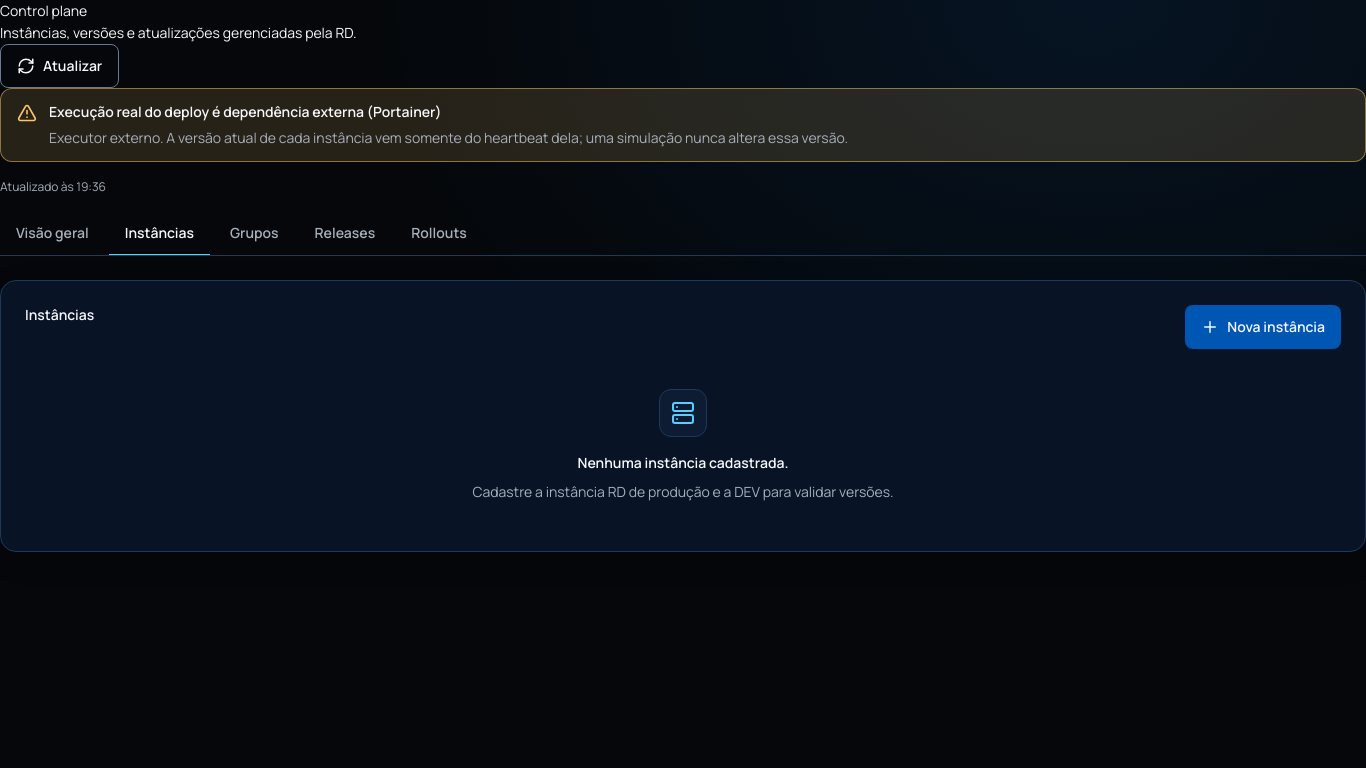
Test: Control plane — gestão (Admin Master) × somente leitura › com control_plane.manage: cadastra instância (POST /control-plane/instances) e mostra o token uma única vez
Step 1. Click the button "Nova instância" → (1263, 327), box [1185,305,1341,349]
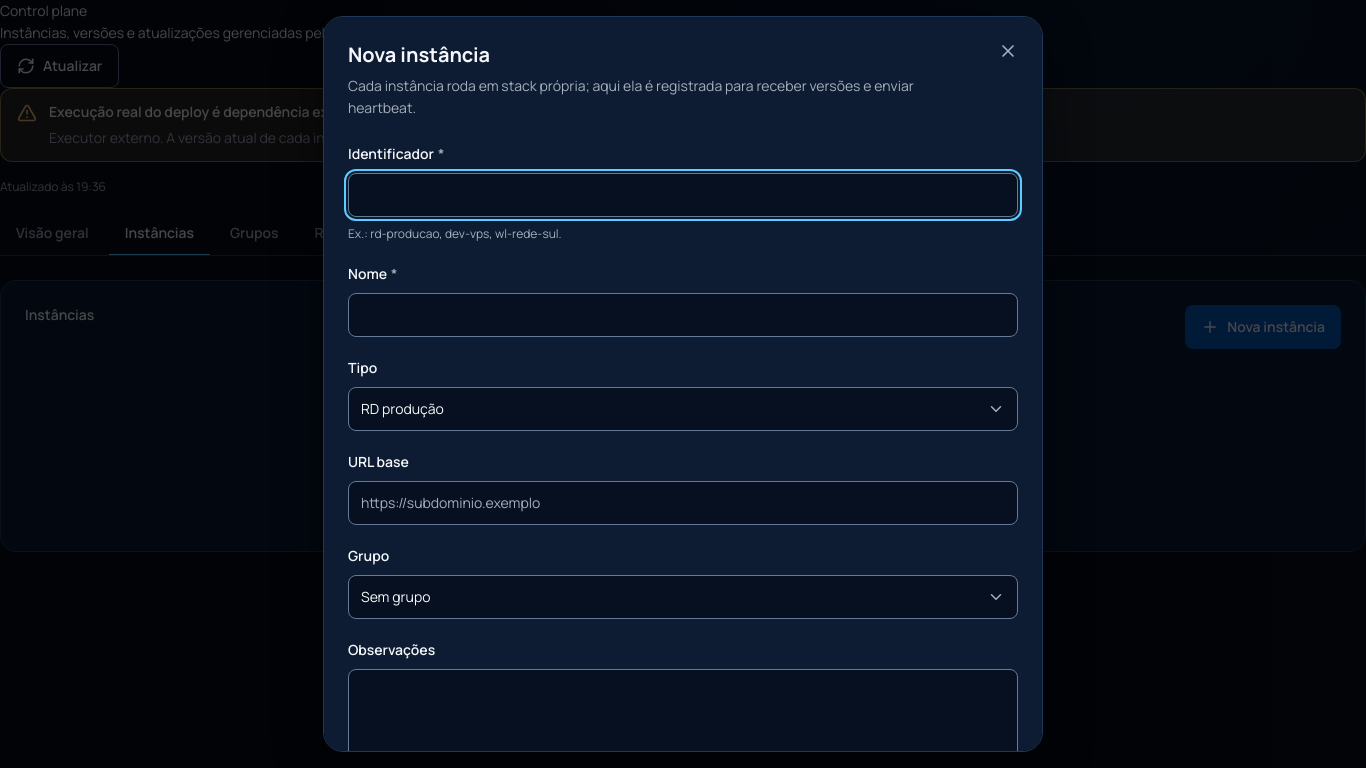
Step 2. Type "rede-sul" into the field labelled "Identificador*" → (683, 195), box [348,173,1018,217]
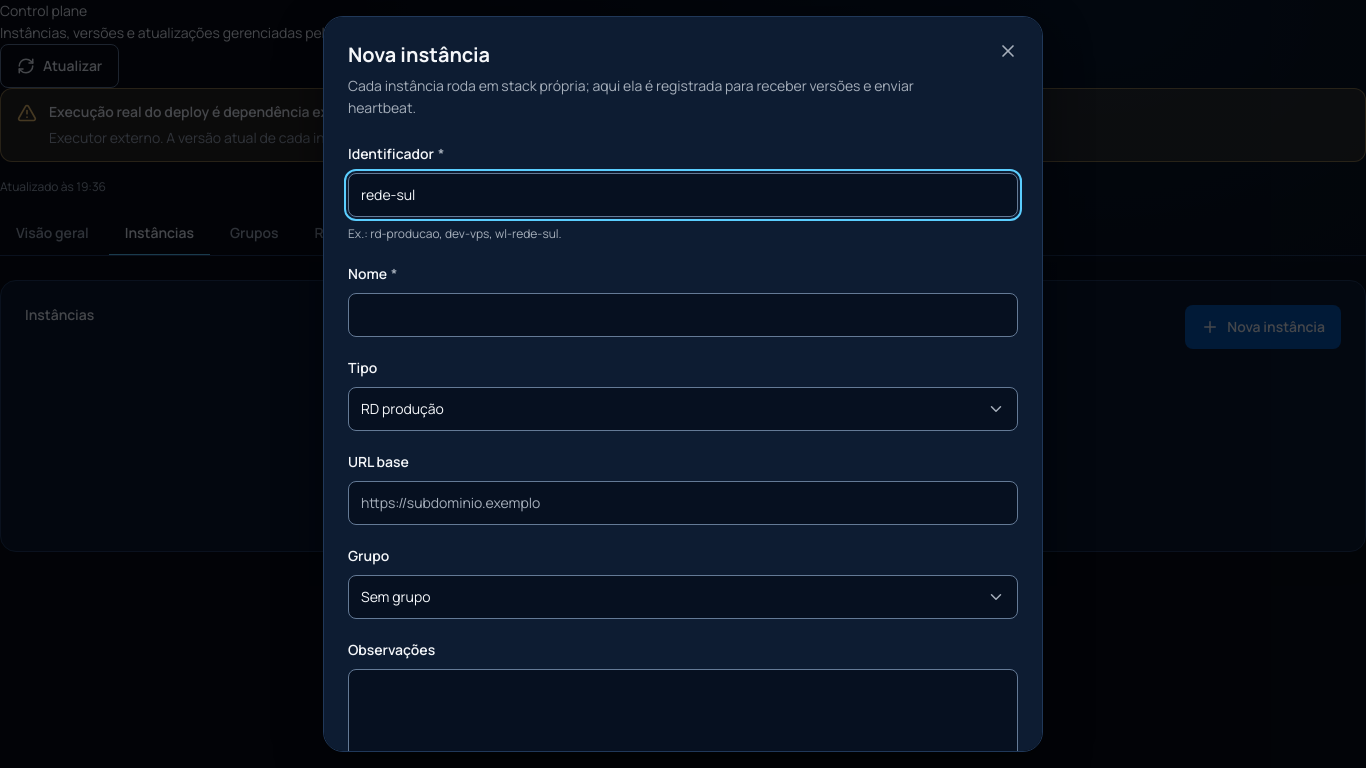
Step 3. Type "Rede Sul" into the field labelled "Nome*" → (683, 315), box [348,293,1018,337]
(page scrolled)
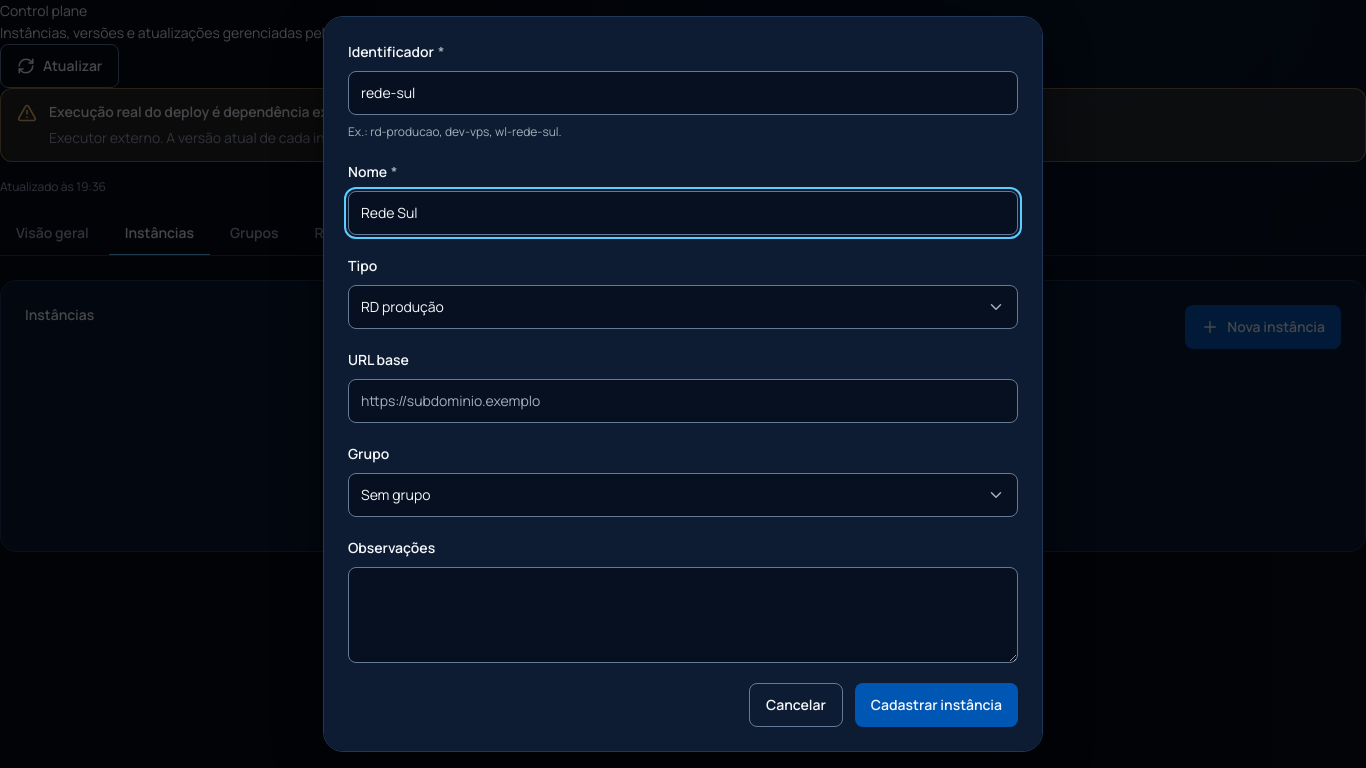
Step 4. Click the button "Cadastrar instância" → (936, 705), box [855,683,1018,727]
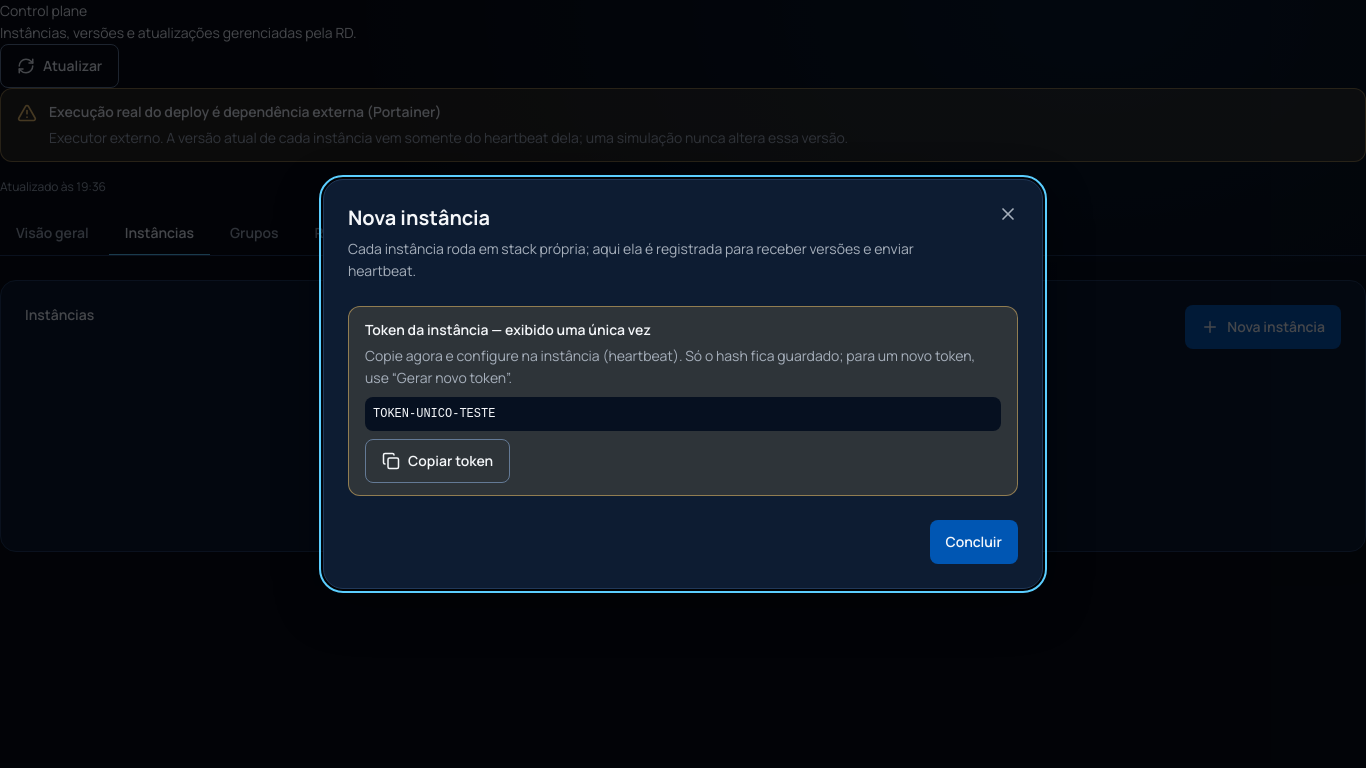
Now the text "TOKEN-UNICO-TESTE" is shown, box [365,397,1001,431]
